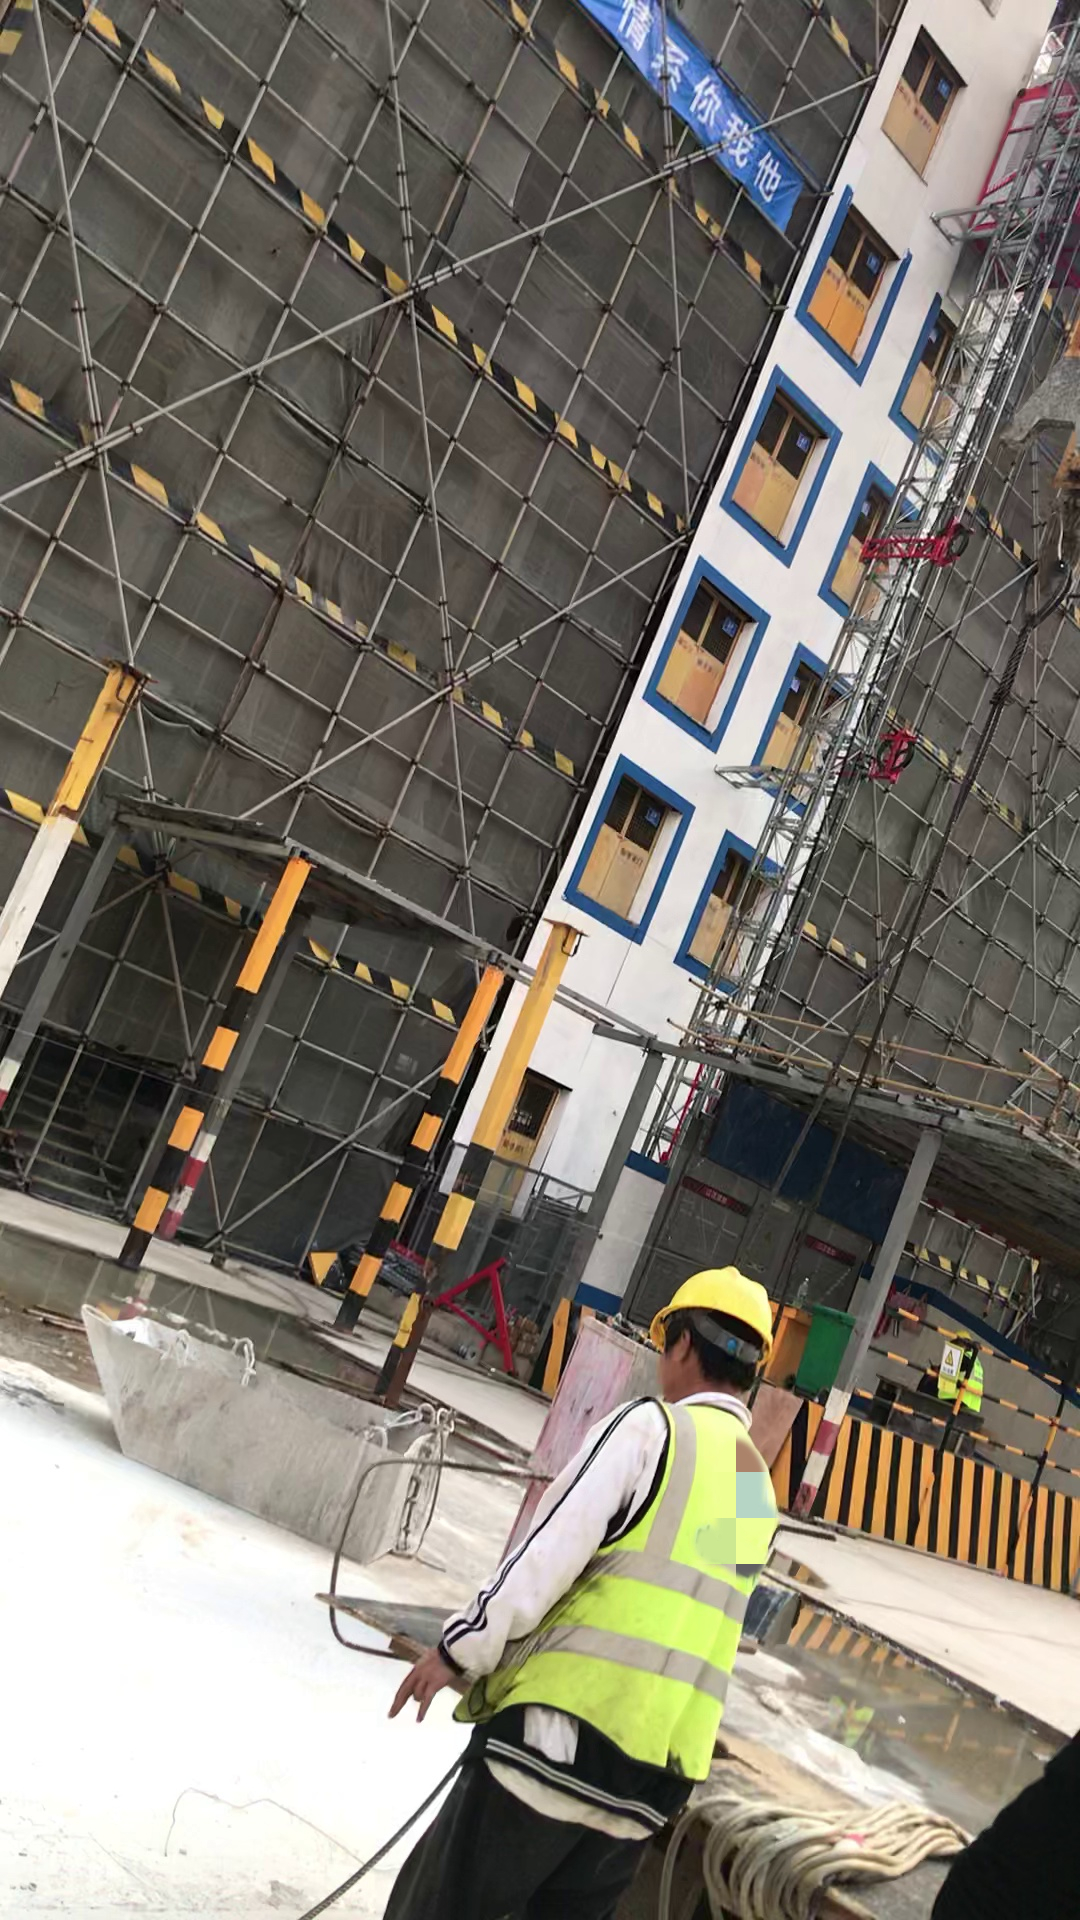helmet: (641, 1241, 775, 1345)
hopper: (72, 1270, 430, 1584)
person: (367, 1227, 827, 1920), (924, 1319, 1004, 1472)
slogan: (603, 1, 784, 251)
vest: (465, 1400, 782, 1796), (950, 1352, 988, 1411)
